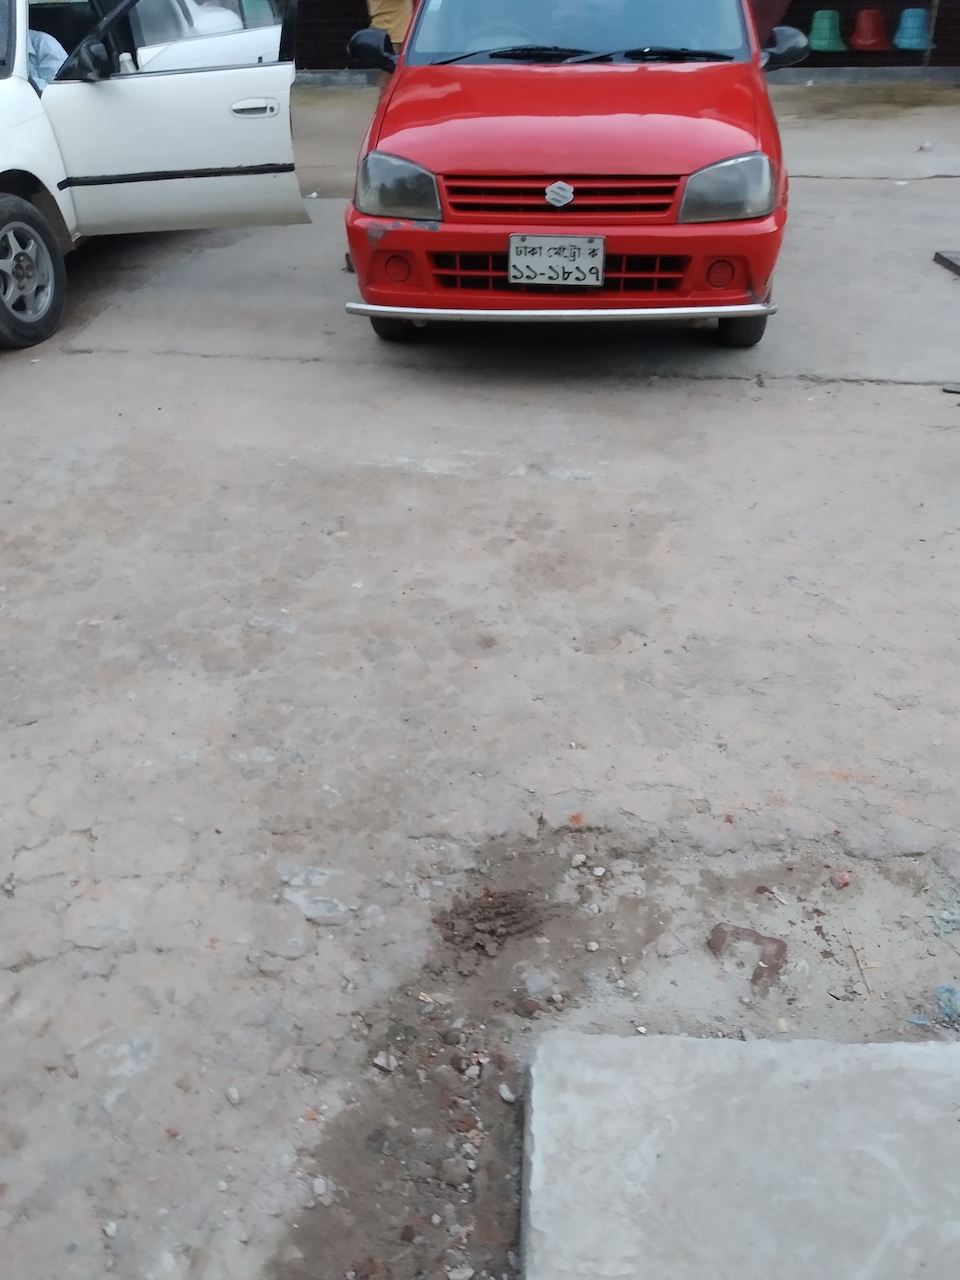registration_plate: (508, 233, 605, 287)
